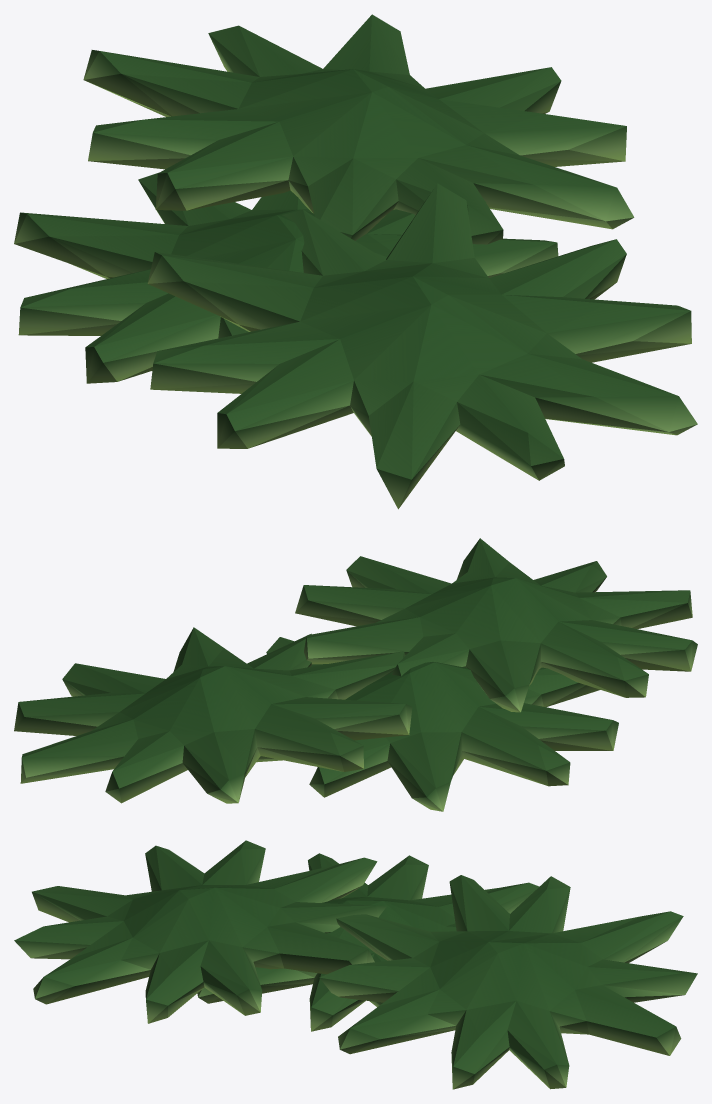
Rendered from SM_Starfish_5.fbx.
3 renders of one model, top to bottom at view 1: azimuth 30°, elevation 25°; view 2: azimuth 150°, elevation 25°; view 3: azimuth 270°, elevation 25°, orthographic. The views are drawn at different scales.
Visible parts, largest first — view 1: Starfish_5; view 2: Starfish_5; view 3: Starfish_5.
Boxes of the visible parts, x1,y1,x2,y2 form: Starfish_5: [14, 14, 697, 509]; Starfish_5: [14, 538, 697, 811]; Starfish_5: [14, 840, 697, 1089].
Size of the model in its own units: 33.32 by 5.58 by 45.19.
